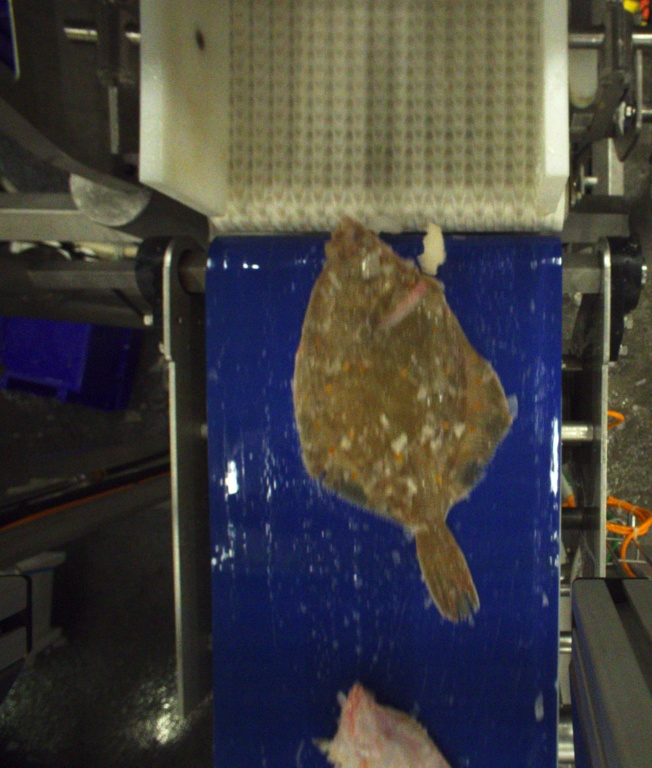PLE: (292, 218, 513, 622)
